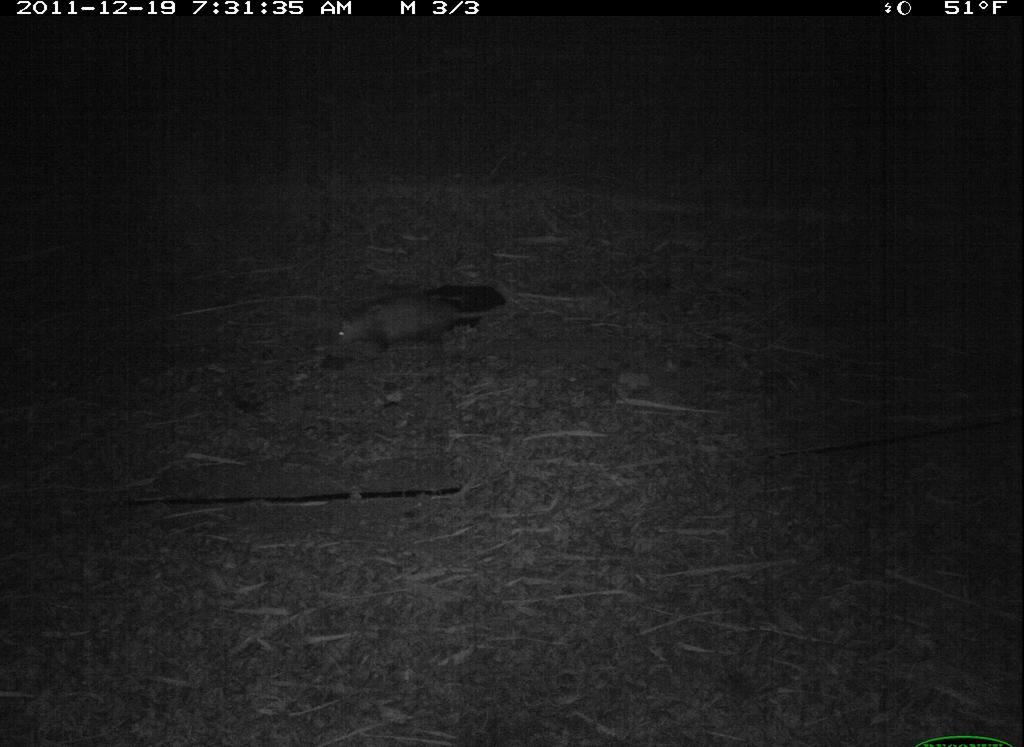opossum: (313, 269, 500, 367)
